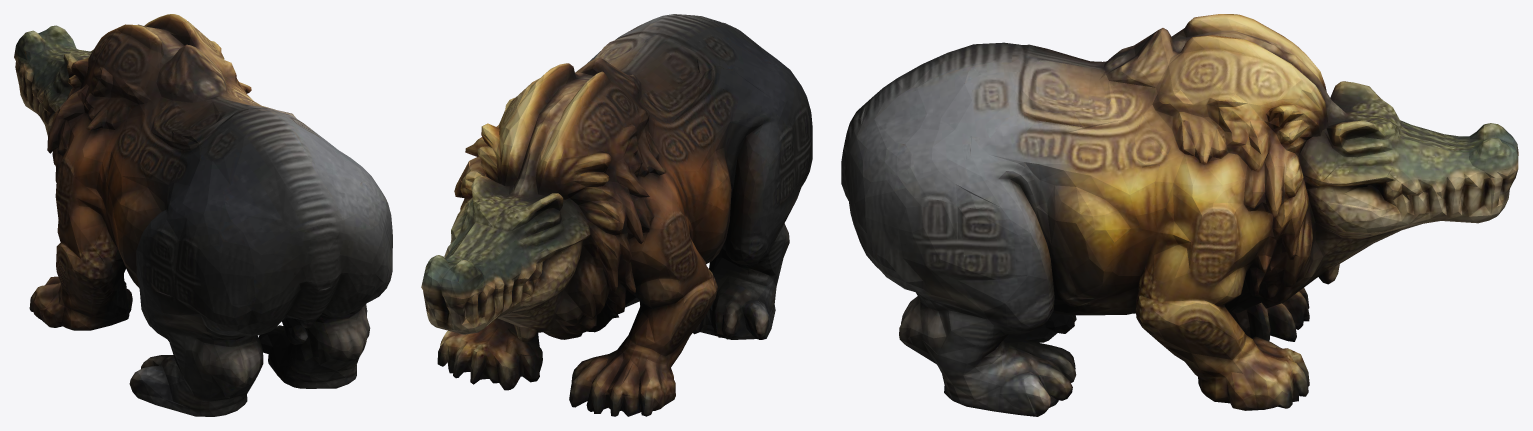
The model's file is crushjaw.glb.
The picture shows the model from 3 angles, left to right: view 1: azimuth 30°, elevation 25°; view 2: azimuth 150°, elevation 25°; view 3: azimuth 270°, elevation 25°; orthographic projection. The views are drawn at different scales.
Visible parts, largest first — view 1: world; view 2: world; view 3: world.
Boxes of the visible parts, left/top/right/bottom form: world: left=14, top=14, right=392, bottom=416; world: left=421, top=14, right=812, bottom=416; world: left=841, top=14, right=1518, bottom=416.
Size of the model in its own units: 0.4407 by 0.5418 by 0.9927.
1 material, 1 textured.
